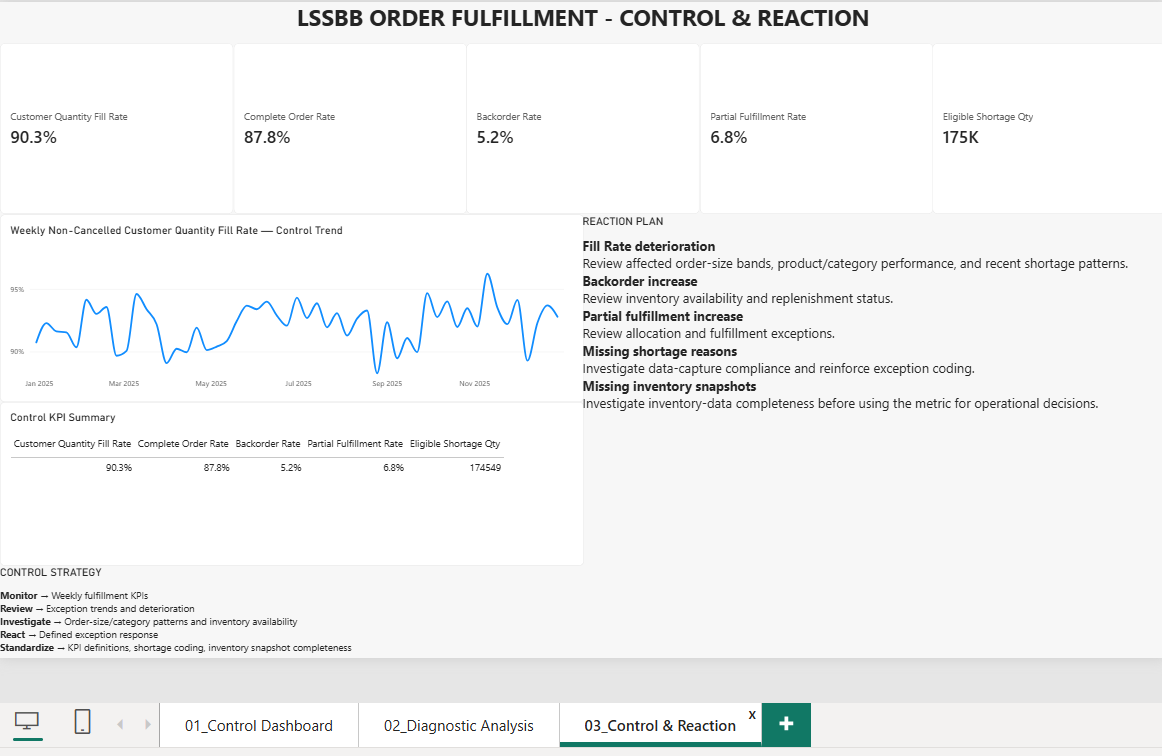

Layout of this report page (visuals, bound fields, positions):
{"tool":"powerbi","page":{"name":"03_Control & Reaction","canvas":[1920,1080],"ordinal":2},"visuals":[{"type":"cardVisual","fields":{"Data":["order_fulfillment_analytical_dataset.Customer Quantity Fill Rate"]},"box":[0,67.9,384.1,282],"z":0},{"type":"cardVisual","fields":{"Data":["order_fulfillment_analytical_dataset.Complete Order Rate"]},"box":[384.4,67.9,384.1,282],"z":1},{"type":"cardVisual","fields":{"Data":["order_fulfillment_analytical_dataset.Backorder Rate"]},"box":[768.4,67.9,384.1,282],"z":2},{"type":"cardVisual","fields":{"Data":["order_fulfillment_analytical_dataset.Partial Fulfillment Rate"]},"box":[1152.4,67.9,384.1,282],"z":3},{"type":"cardVisual","fields":{"Data":["order_fulfillment_analytical_dataset.Eligible Shortage Qty"]},"box":[1536.3,67.9,384.1,282],"z":4},{"type":"lineChart","title":"Weekly Non-Cancelled Customer Quantity Fill Rate — Control Trend","fields":{"Category":["order_fulfillment_analytical_dataset.Week Start"],"Y":["order_fulfillment_analytical_dataset.Eligible Customer Quantity Fill Rate"]},"box":[0,349.9,961.2,308.7],"z":5},{"type":"tableEx","title":"Control KPI Summary","fields":{"Values":["order_fulfillment_analytical_dataset.Customer Quantity Fill Rate","order_fulfillment_analytical_dataset.Complete Order Rate","order_fulfillment_analytical_dataset.Backorder Rate","order_fulfillment_analytical_dataset.Partial Fulfillment Rate","order_fulfillment_analytical_dataset.Eligible Shortage Qty"]},"box":[0,658.7,961.2,269.6],"z":7},{"type":"textbox","box":[0,0,1920.4,67.9],"z":8},{"type":"textbox","title":"REACTION PLAN","box":[959.2,349.9,961.2,578.4],"z":9},{"type":"textbox","title":"CONTROL STRATEGY","box":[0,928.3,1920.4,152.3],"z":10},{"type":"textbox","title":"DATA & SPC NOTE","box":[961.2,794.5,959.2,286.1],"z":11}]}

Visuals, with their boxes on the page's 1920x1080 design canvas (x1, y1, x2, y2). These are canvas units, not pixel positions in the 1162x756 screenshot, which may show the page scaled, cropped or inside an application window:
cardVisual - order_fulfillment_analytical_dataset.Customer Quantity Fill Rate: (0,68,384,350)
cardVisual - order_fulfillment_analytical_dataset.Complete Order Rate: (384,68,768,350)
cardVisual - order_fulfillment_analytical_dataset.Backorder Rate: (768,68,1152,350)
cardVisual - order_fulfillment_analytical_dataset.Partial Fulfillment Rate: (1152,68,1536,350)
cardVisual - order_fulfillment_analytical_dataset.Eligible Shortage Qty: (1536,68,1920,350)
"Weekly Non-Cancelled Customer Quantity Fill Rate — Control Trend" lineChart: (0,350,961,659)
"Control KPI Summary" tableEx: (0,659,961,928)
textbox: (0,0,1920,68)
"REACTION PLAN" textbox: (959,350,1920,928)
"CONTROL STRATEGY" textbox: (0,928,1920,1081)
"DATA & SPC NOTE" textbox: (961,794,1920,1081)
